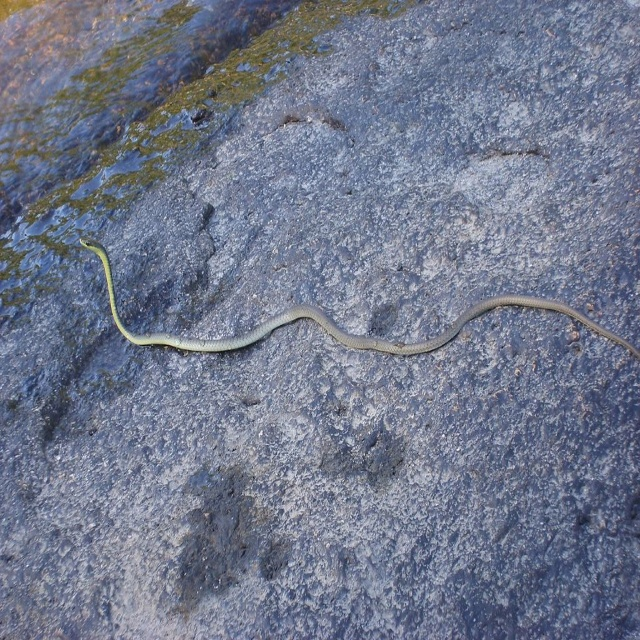Snake: (14, 243, 635, 401)
